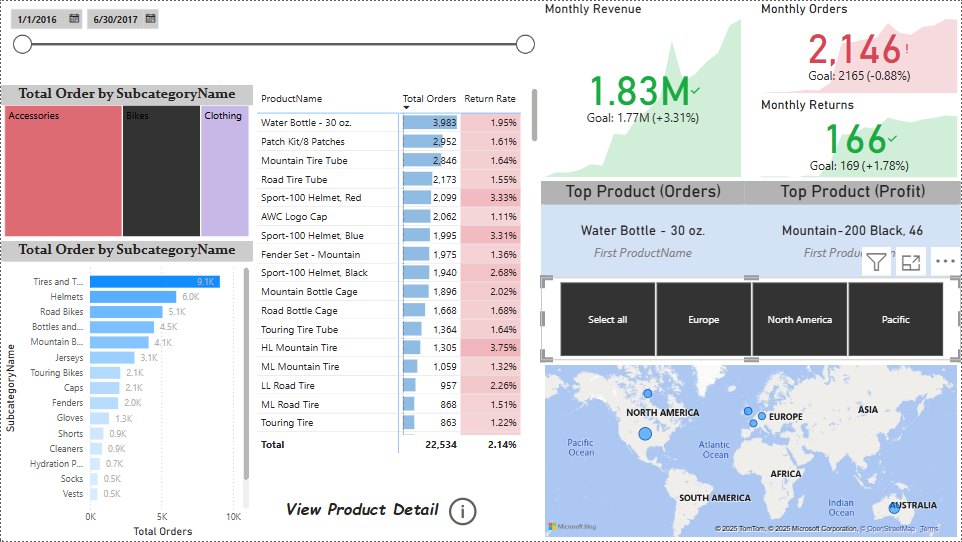

What the dashboard file says about the page in this screenshot:
{"tool":"powerbi","page":{"name":"Exec Summary","canvas":[1280,720],"ordinal":0},"visuals":[{"type":"barChart","title":"Total Order by SubcategoryName","fields":{"Y":["AW_Sales_2015-2017.Total Orders"],"Category":["AW_Product_Subcategories.SubcategoryName"]},"box":[0,320,336,400],"z":1000},{"type":"treemap","title":"Total Order by SubcategoryName","fields":{"Group":["AW_Product_Categories.CategoryName","AW_Product_Subcategories.SubcategoryName"],"Values":["AW_Sales_2015-2017.Total Orders"]},"box":[0,112,336,208],"z":2000},{"type":"pivotTable","fields":{"Values":["AW_Sales_2015-2017.Total Orders","AW_Returns.Return Rate"],"Rows":["AW_Product_Categories.CategoryName","AW_Product_Subcategories.SubcategoryName","AW_Products.ProductName"]},"box":[336,112,384,496],"z":3000},{"type":"slicer","fields":{"Values":["AW_Calendar.Date"]},"box":[0,0,720,112],"z":4000},{"type":"kpi","title":"Monthly Revenue","fields":{"Indicator":["AW_Sales_2015-2017.Total_Revenue"],"TrendLine":["AW_Calendar.Start of Month"],"Goal":["AW_Sales_2015-2017.Prev Month Revenue"]},"box":[720,0,272,240],"z":5000},{"type":"kpi","title":"Monthly Orders","fields":{"TrendLine":["AW_Calendar.Start of Month"],"Indicator":["AW_Sales_2015-2017.Total Orders"],"Goal":["AW_Sales_2015-2017.Prev Month orders"]},"box":[1008,0,272,128],"z":6000},{"type":"kpi","title":"Monthly Returns","fields":{"TrendLine":["AW_Calendar.Start of Month"],"Goal":["AW_Returns.Prev Month Returns"],"Indicator":["AW_Returns.Total Returns"]},"box":[1008,128,272,112],"z":7000},{"type":"card","title":"Top Product (Orders)","fields":{"Values":["Min(AW_Products.ProductName)"]},"box":[720,240,272,128],"z":8000},{"type":"card","title":"Top Product (Profit)","fields":{"Values":["Min(AW_Products.ProductName)"]},"box":[992,240,288,128],"z":9000},{"type":"map","fields":{"Category":["AW_Territories.Country"],"Size":["AW_Sales_2015-2017.Total Orders"]},"box":[720,480,560,240],"z":10000},{"type":"slicer","fields":{"Values":["AW_Territories.Continent"]},"box":[720,368,560,112],"z":11000},{"type":"textbox","box":[336,656,288,48],"z":12000},{"type":"actionButton","box":[592,656,48,48],"z":13000}]}

Visuals, with their boxes in screenshot pixels (x1, y1, x2, y2), scaled from the page's 1280x720 canvas onto the 962x542 screenshot:
"Total Order by SubcategoryName" barChart: rect(0, 241, 253, 541)
"Total Order by SubcategoryName" treemap: rect(0, 84, 253, 241)
pivotTable - AW_Sales_2015-2017.Total Orders x AW_Returns.Return Rate: rect(253, 84, 541, 458)
slicer - AW_Calendar.Date: rect(0, 0, 541, 84)
"Monthly Revenue" kpi: rect(541, 0, 746, 181)
"Monthly Orders" kpi: rect(758, 0, 961, 96)
"Monthly Returns" kpi: rect(758, 96, 961, 181)
"Top Product (Orders)" card: rect(541, 181, 746, 277)
"Top Product (Profit)" card: rect(746, 181, 961, 277)
map - AW_Territories.Country x AW_Sales_2015-2017.Total Orders: rect(541, 361, 961, 541)
slicer - AW_Territories.Continent: rect(541, 277, 961, 361)
textbox: rect(253, 494, 469, 530)
actionButton: rect(445, 494, 481, 530)
